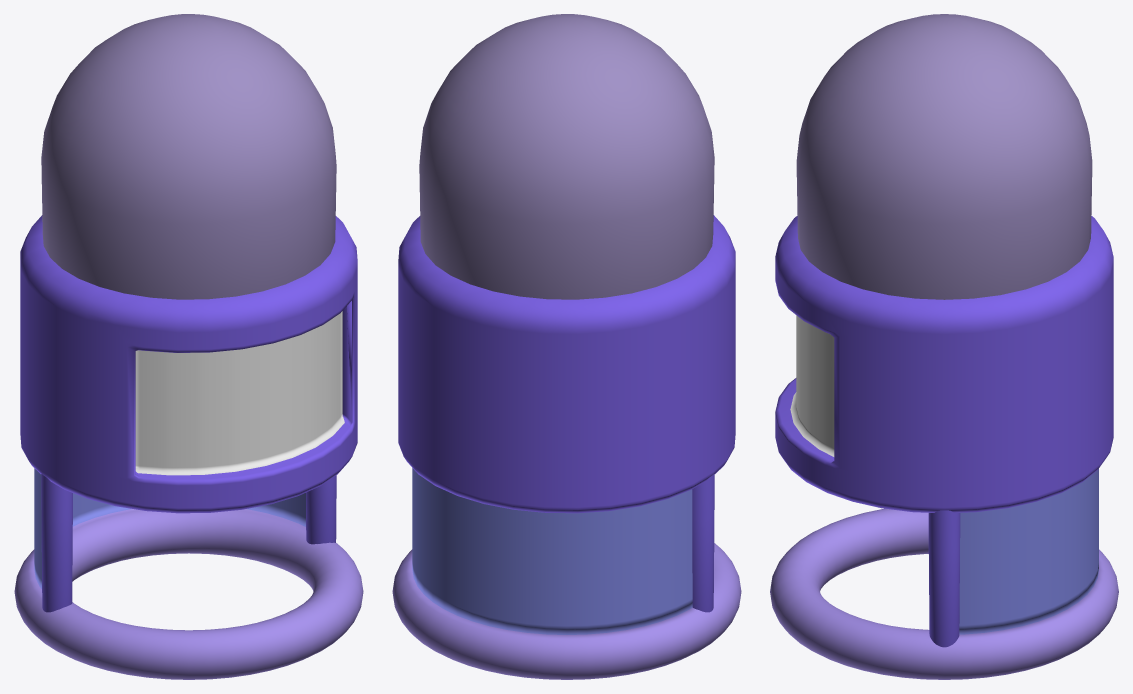
Rendered from ballPusher (3).fbx.
3 views of the same model, side by side, from view 1: azimuth 30°, elevation 25°; view 2: azimuth 150°, elevation 25°; view 3: azimuth 270°, elevation 25° (orthographic).
Parts seen in each view (by area): view 1: Cylinder, Sphere, Torus, Sphere.002, Sphere.003; view 2: Cylinder, Sphere, Torus, Sphere.002; view 3: Cylinder, Sphere, Torus, Sphere.003.
Boxes of the visible parts, <box> form: Cylinder: <box>20,215,357,513</box>; Sphere: <box>41,14,336,299</box>; Torus: <box>14,468,363,679</box>; Sphere.002: <box>41,474,72,612</box>; Sphere.003: <box>306,475,336,544</box>; Cylinder: <box>398,215,735,513</box>; Sphere: <box>419,14,714,299</box>; Torus: <box>392,468,741,679</box>; Sphere.002: <box>692,474,714,612</box>; Cylinder: <box>775,215,1113,512</box>; Sphere: <box>796,14,1092,299</box>; Torus: <box>770,469,1118,679</box>; Sphere.003: <box>928,510,960,647</box>.
Size of the model in its own units: 182 by 338 by 182.
